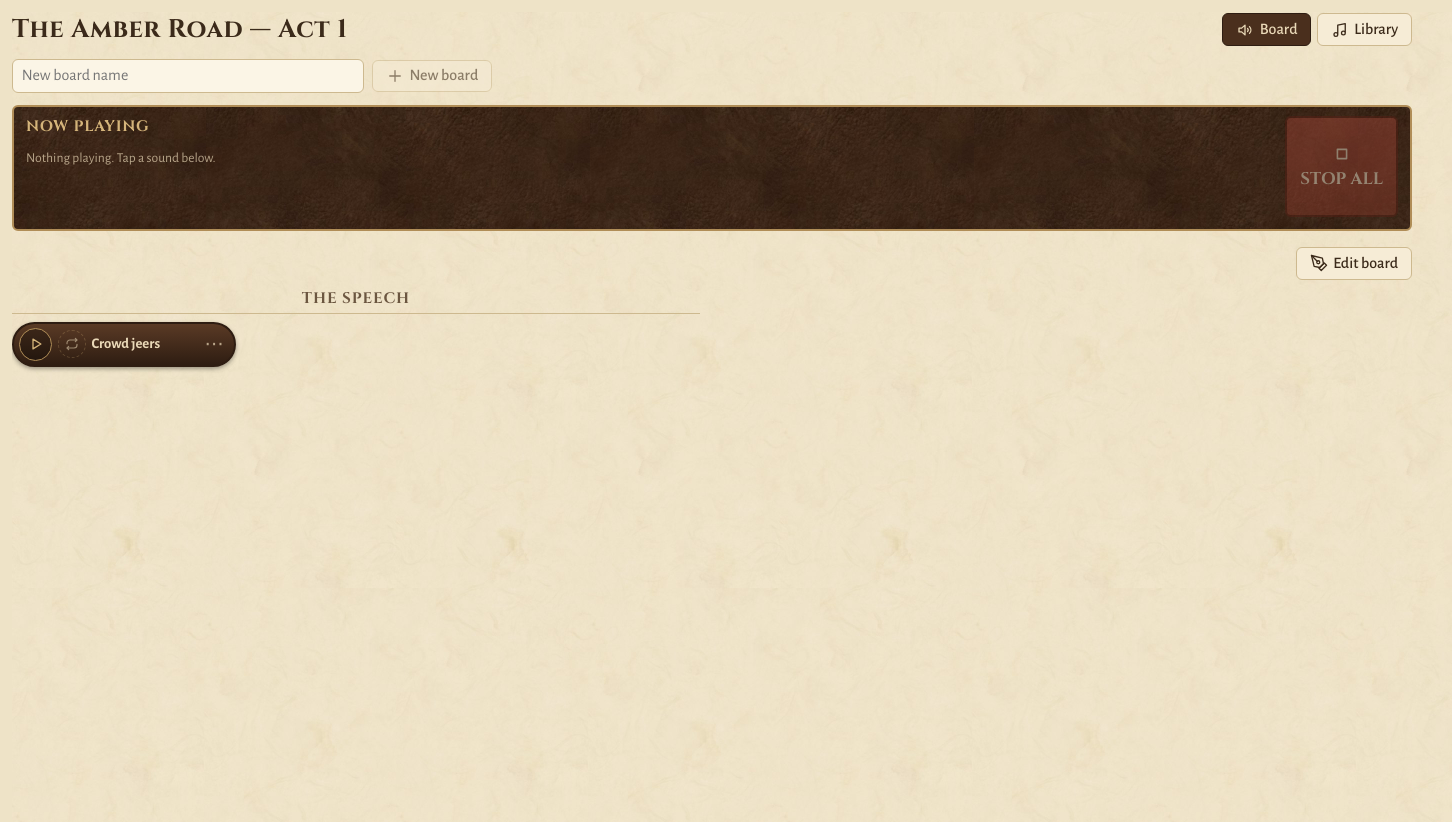
Test: the loop toggle saves the clip and changes a playing one on the spot
Check: the heading "The Amber Road — Act 1" is shown, box [12,12,348,47]
Click the button named "Crowd jeers" at (33, 344), box [14,324,52,365]
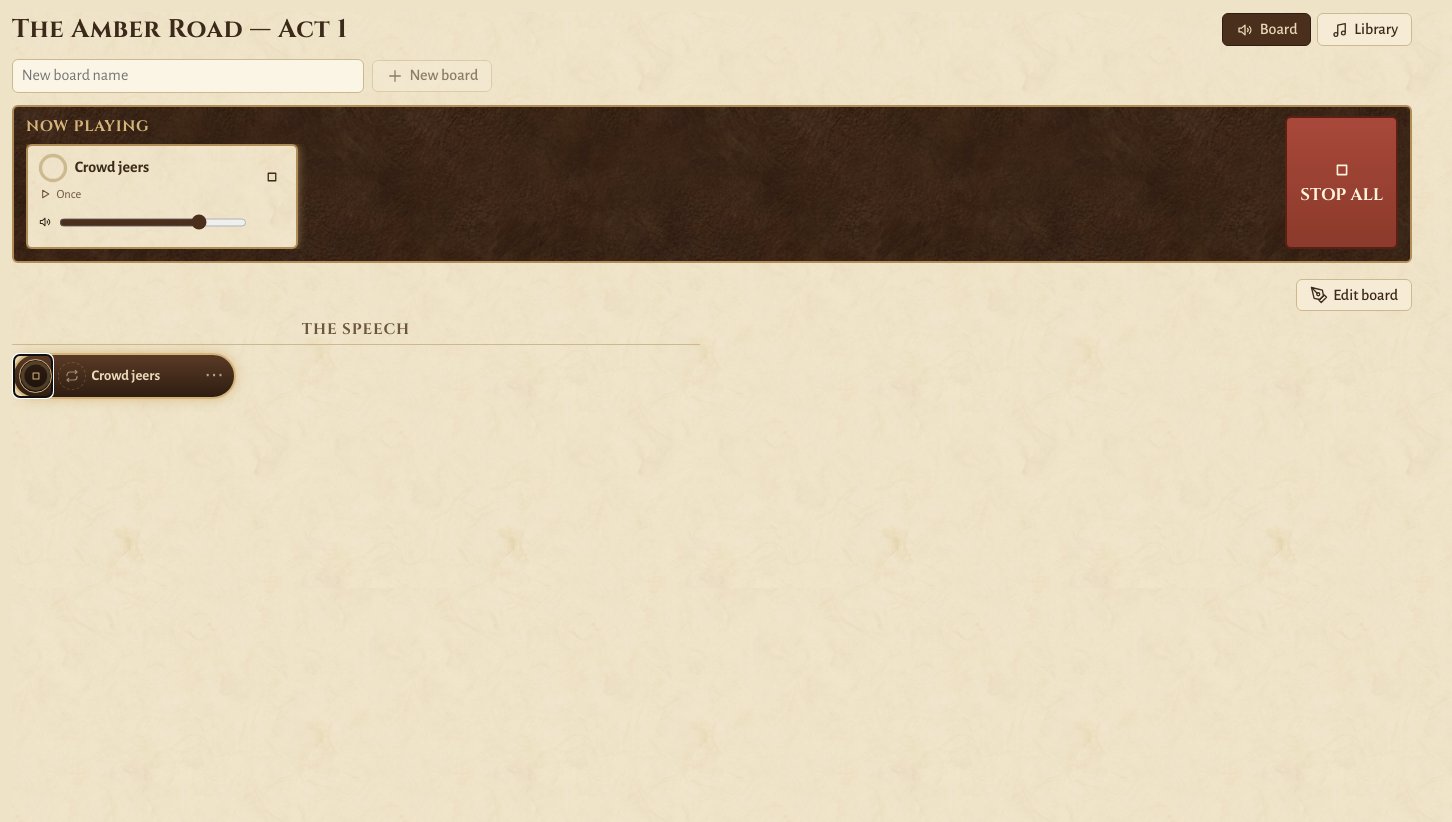
Click the button named "Loop Crowd jeers" at (72, 376), box [58,362,86,390]
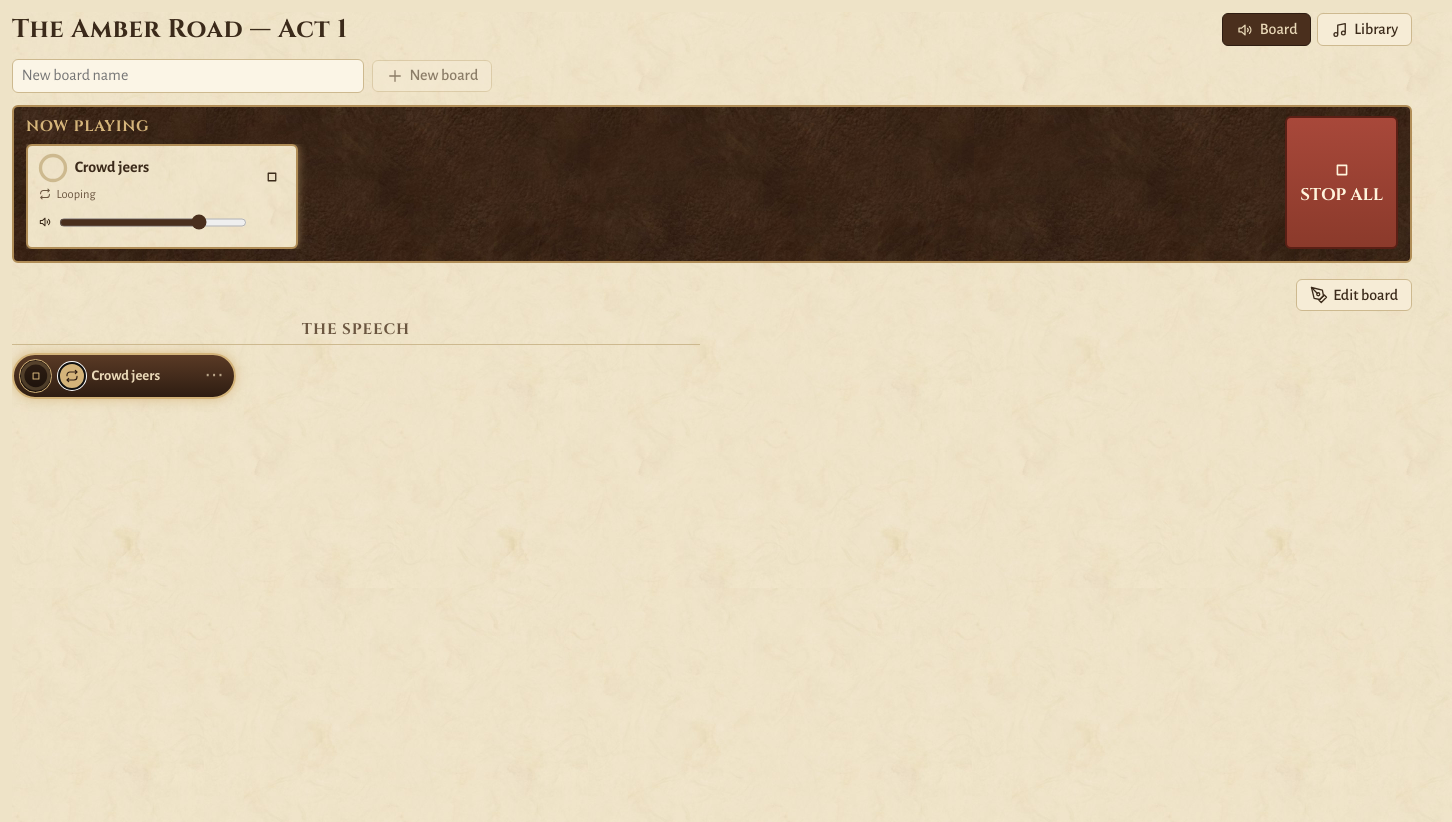
Check: the text "Looping" is shown, box [38,187,96,201]
